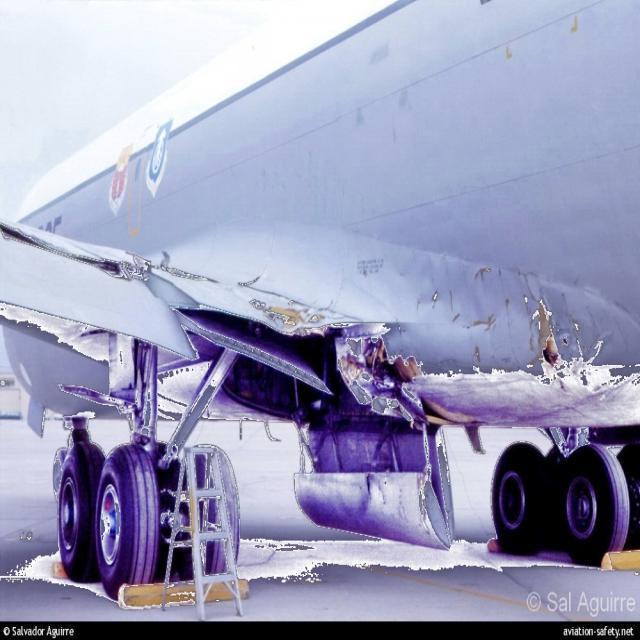crack: (538, 298, 569, 366)
dent: (399, 251, 529, 368)
